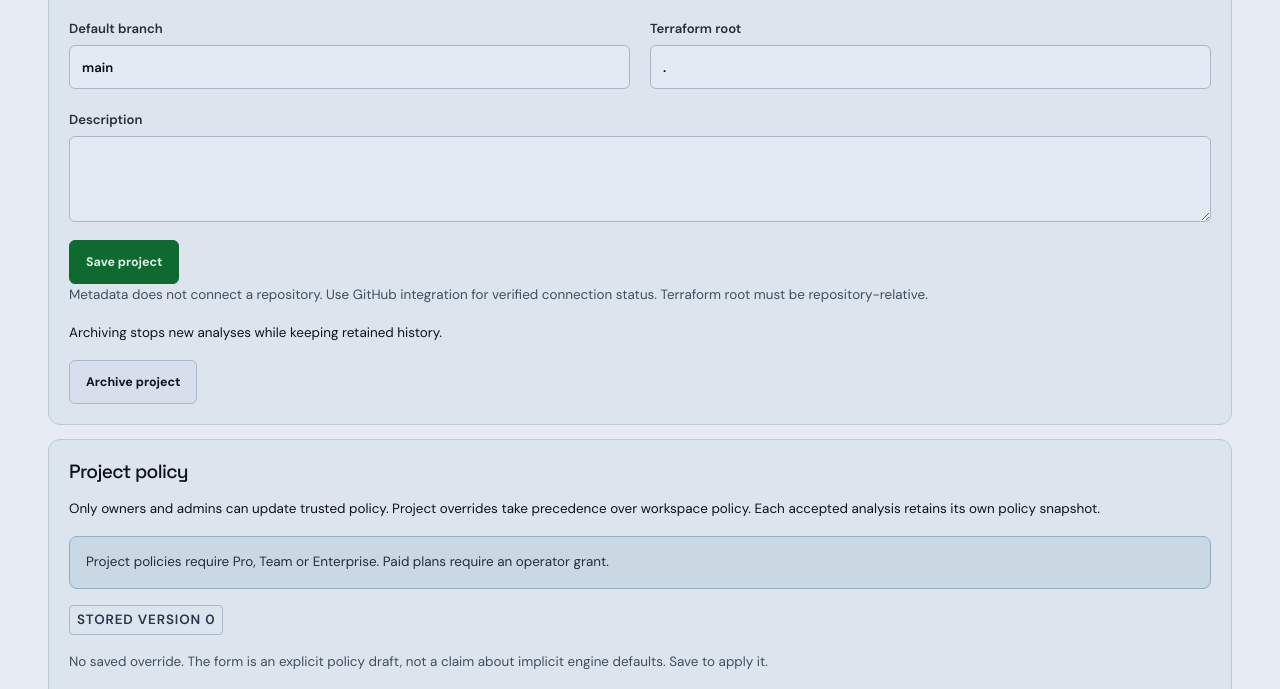
project lifecycle › archives with the complete metadata payload and offers restoration
(page scrolled)
Click the button "Archive project" at x=133, y=382, box [69,360,197,404]
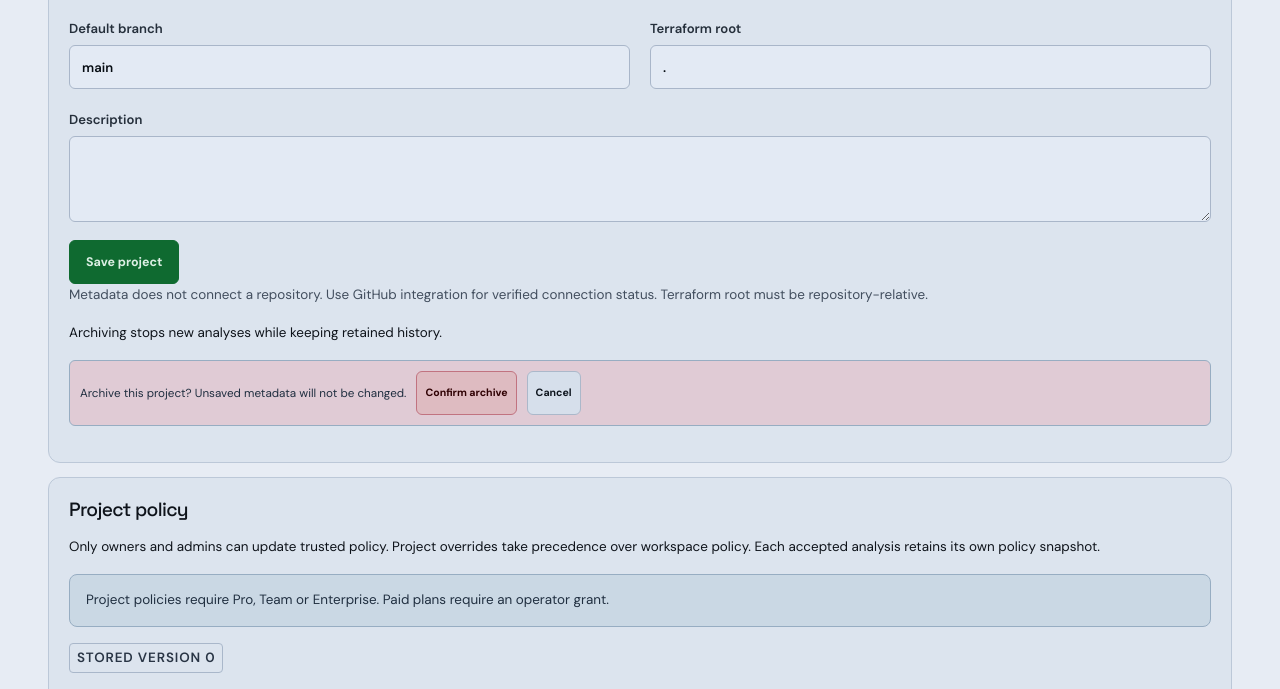
Click the button "Confirm archive" at x=466, y=393, box [416,371,517,415]
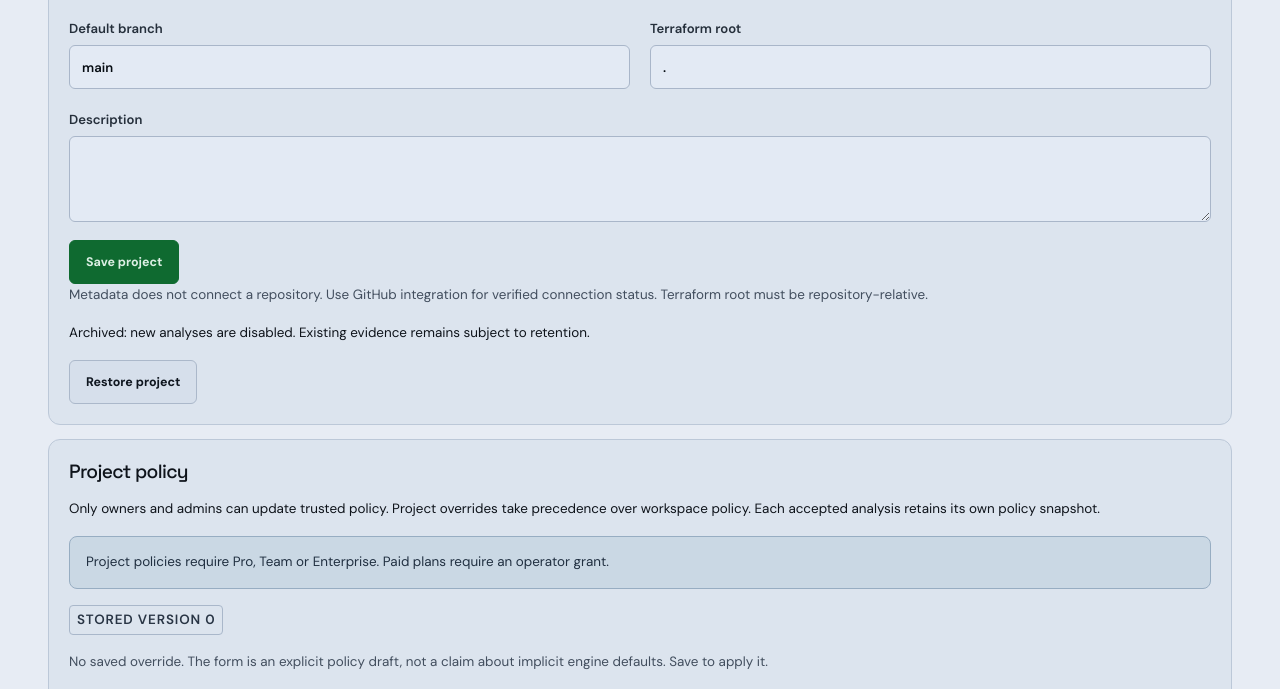
Expected: the button "Restore project" is shown, [69,360,197,404]
